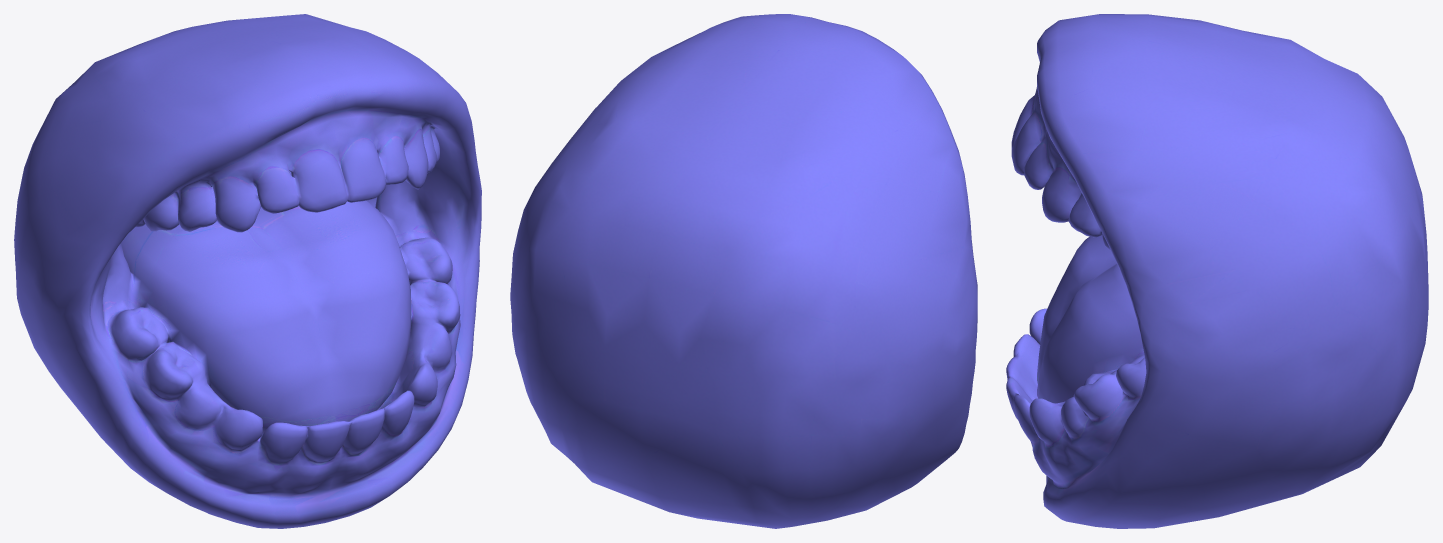
The model's file is RealMouth.fbx.
3 renders of one model, left to right at view 1: azimuth 30°, elevation 25°; view 2: azimuth 150°, elevation 25°; view 3: azimuth 270°, elevation 25°, orthographic. The views are drawn at different scales.
Parts seen in each view (by area): view 1: Mouth_B; view 2: Mouth_B; view 3: Mouth_B.
Part boxes in pixels (bbox=[...]): Mouth_B: bbox=[14, 14, 481, 528]; Mouth_B: bbox=[510, 14, 977, 528]; Mouth_B: bbox=[1006, 14, 1428, 528].
Size of the model in its own units: 1.84 by 1.91 by 1.57.
1 material, 1 textured.
